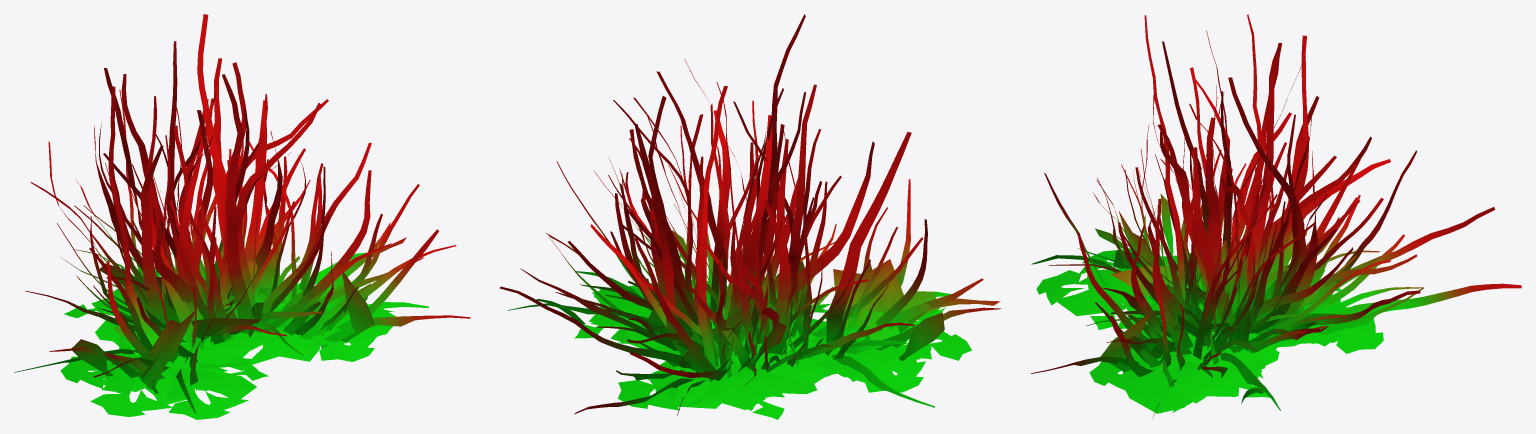
The model's file is Wild Grass_LOD0_Var6_vczndjqja.fbx.
The picture shows the model from 3 angles, left to right: view 1: azimuth 30°, elevation 25°; view 2: azimuth 150°, elevation 25°; view 3: azimuth 270°, elevation 25°; orthographic projection. The views are drawn at different scales.
Parts seen in each view (by area): view 1: _ruzo_Var6_LOD0; view 2: _ruzo_Var6_LOD0; view 3: _ruzo_Var6_LOD0.
Part boxes in pixels (bbox=[...]): _ruzo_Var6_LOD0: bbox=[14, 14, 470, 419]; _ruzo_Var6_LOD0: bbox=[499, 14, 1001, 419]; _ruzo_Var6_LOD0: bbox=[1031, 14, 1521, 418].
Bounding box in the file's own units: 118 × 85.61 × 123.
